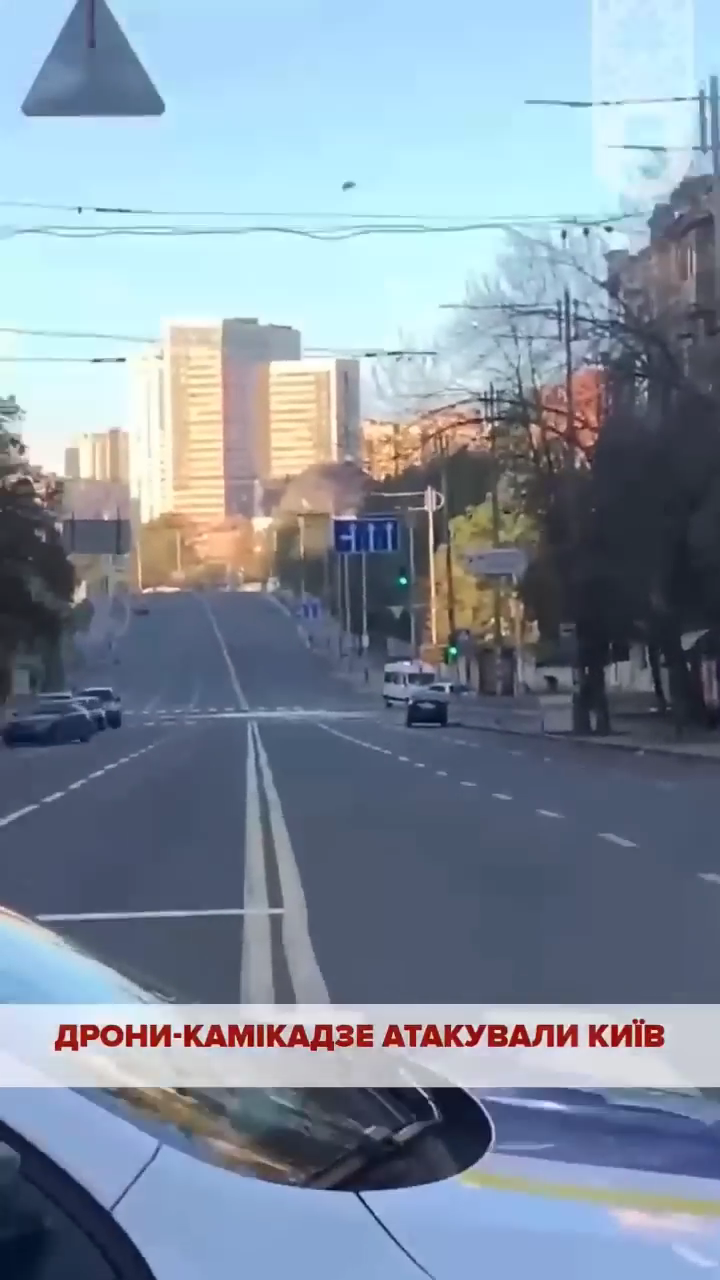shahed: (340, 178, 358, 194)
